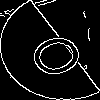O: (25, 25, 97, 83)
